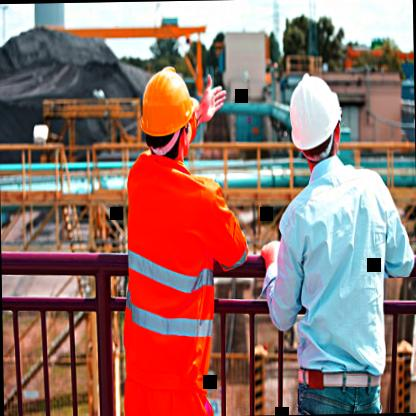helmet: (278, 66, 344, 180), (137, 60, 206, 164)
